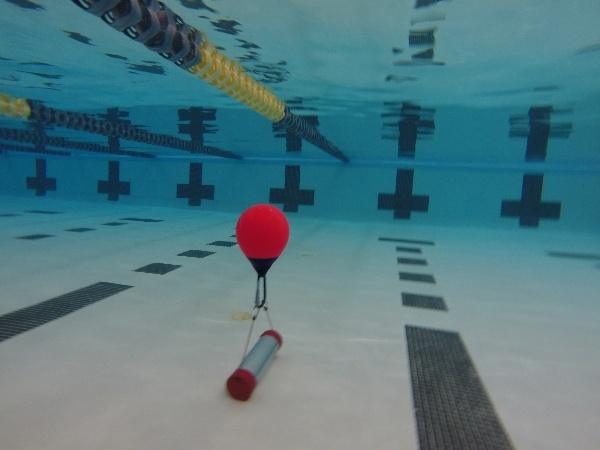buoy_red: (229, 200, 293, 279)
